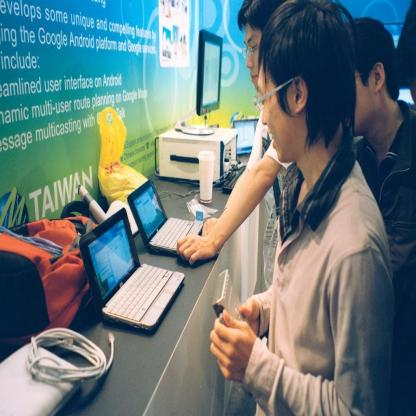board: (78, 196, 190, 338), (127, 180, 204, 256), (232, 119, 259, 165)
